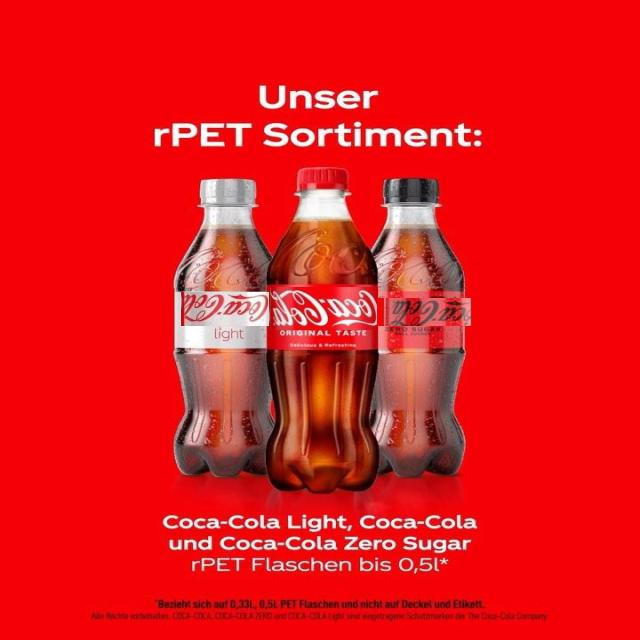coca-cola: (270, 287, 378, 330), (182, 292, 270, 326), (377, 298, 472, 326)
